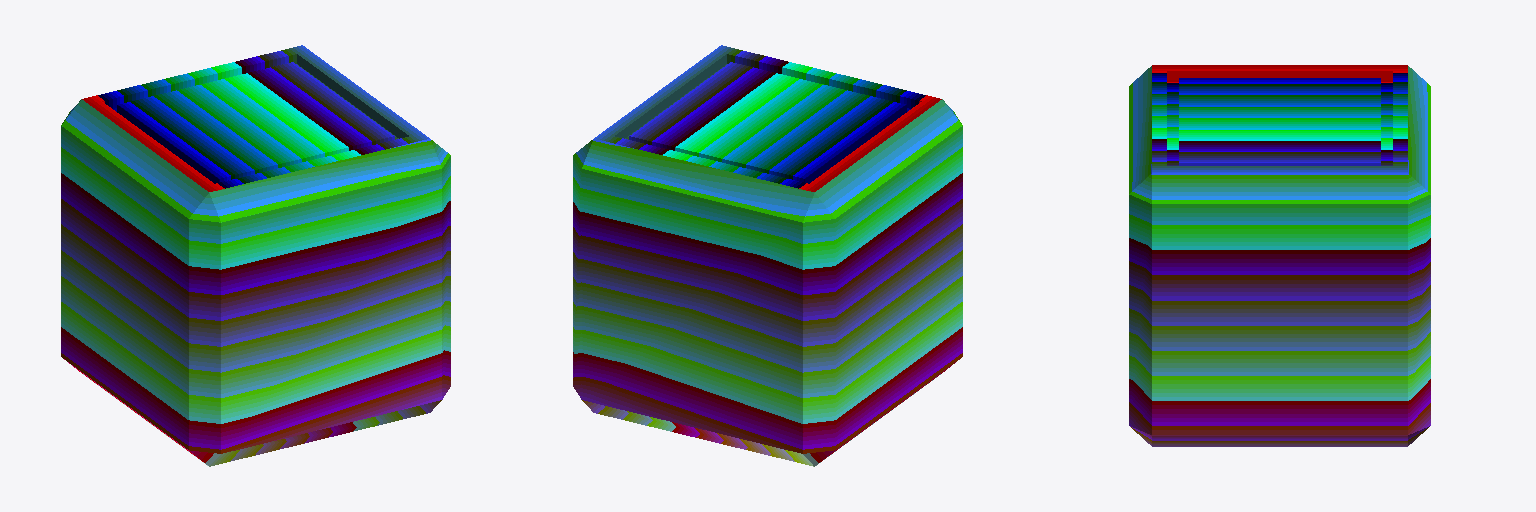
3 views of the same model, side by side, from view 1: azimuth 30°, elevation 25°; view 2: azimuth 150°, elevation 25°; view 3: azimuth 270°, elevation 25° (orthographic).
Parts seen in each view (by area): view 1: Cube; view 2: Cube; view 3: Cube.
Boxes of the visible parts, x1=… form: Cube: x1=61, y1=45, x2=450, y2=466; Cube: x1=573, y1=45, x2=962, y2=466; Cube: x1=1129, y1=65, x2=1430, y2=446.
Bounding box in the file's own units: 2 × 2 × 2.
1 materials, 1 textured.